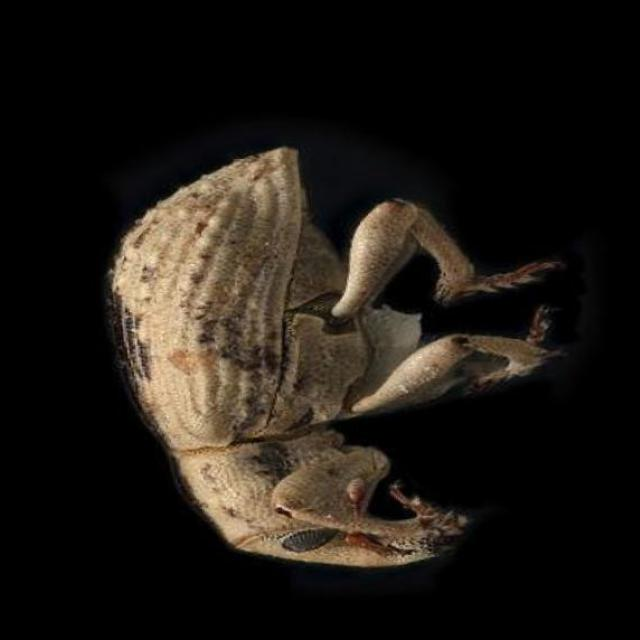ricebug: (106, 149, 561, 566)
